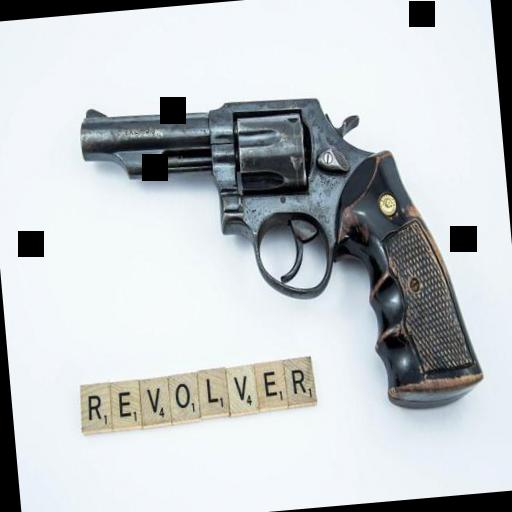Handgun: (68, 64, 486, 440)
